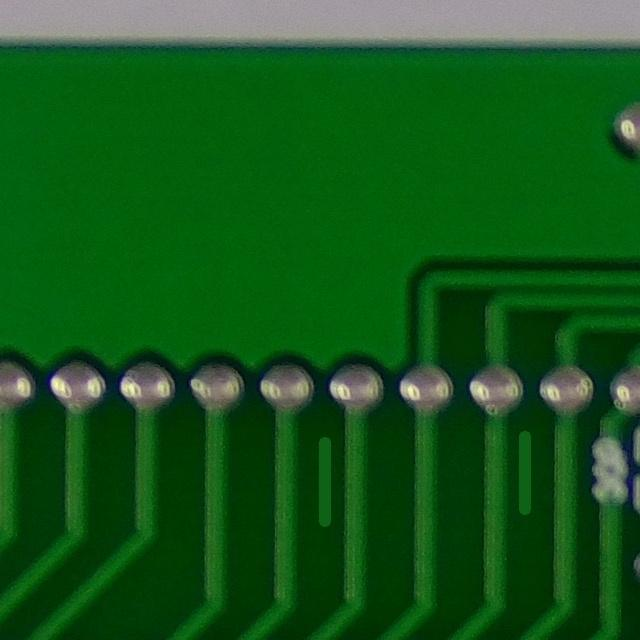spurious_copper: (496, 415, 555, 525), (301, 423, 351, 538)
